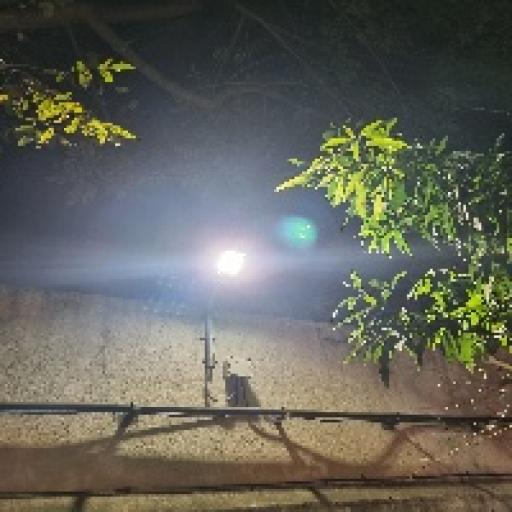Working: (204, 242, 254, 290)
